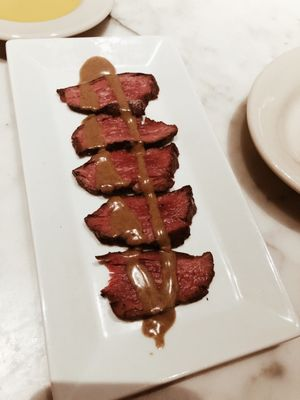sushi: (245, 46, 300, 197)
